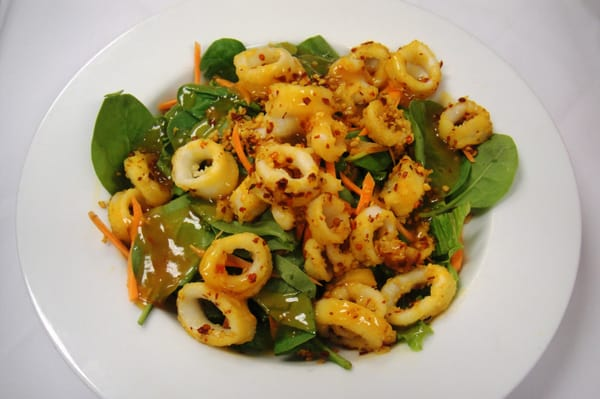sushi: (5, 5, 596, 393)
